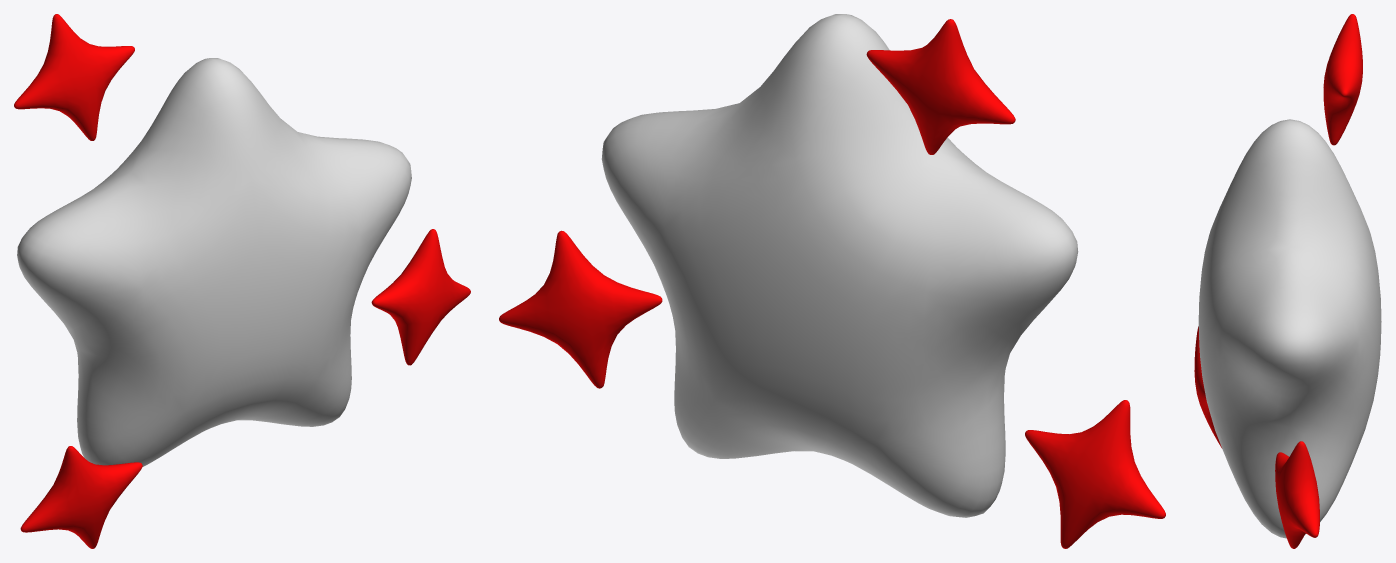
Rendered from StarDust.fbx.
3 renders of one model, left to right at view 1: azimuth 30°, elevation 25°; view 2: azimuth 150°, elevation 25°; view 3: azimuth 270°, elevation 25°, orthographic. The views are drawn at different scales.
Visible parts, largest first — view 1: Star Dust; view 2: Star Dust; view 3: Star Dust.
Boxes of the visible parts, x1,y1,x2,y2 form: Star Dust: (14, 14, 470, 548); Star Dust: (499, 14, 1165, 548); Star Dust: (1194, 14, 1381, 548).
Bounding box in the file's own units: 128 × 117 × 43.73.
